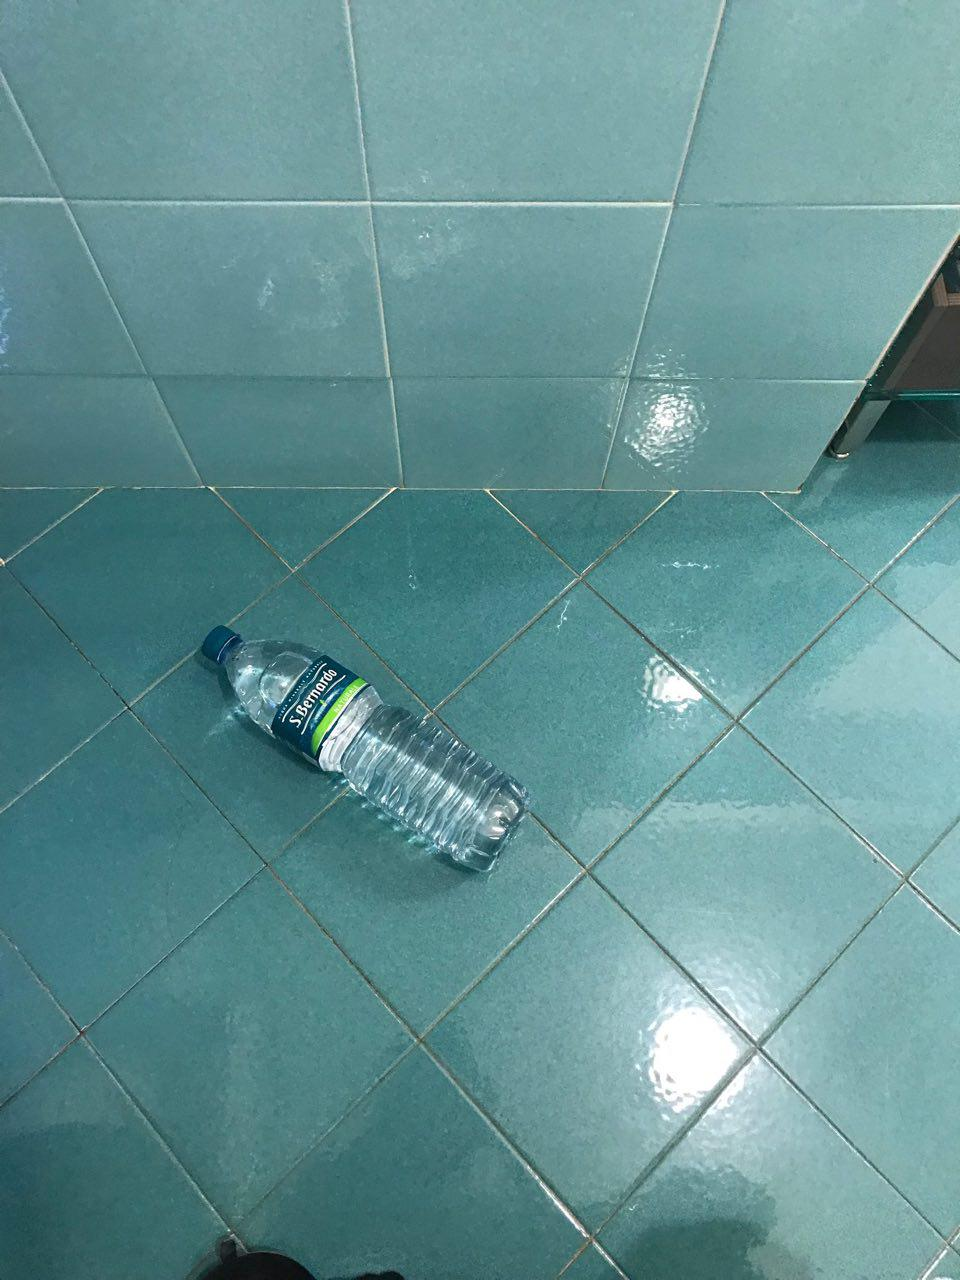san_bernardo: (199, 624, 531, 874)
